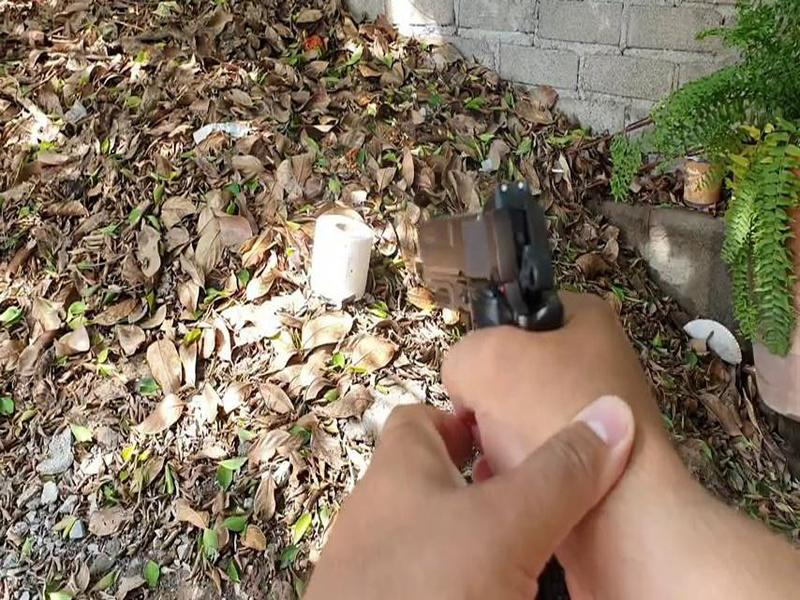Pistola: (378, 178, 575, 364)
